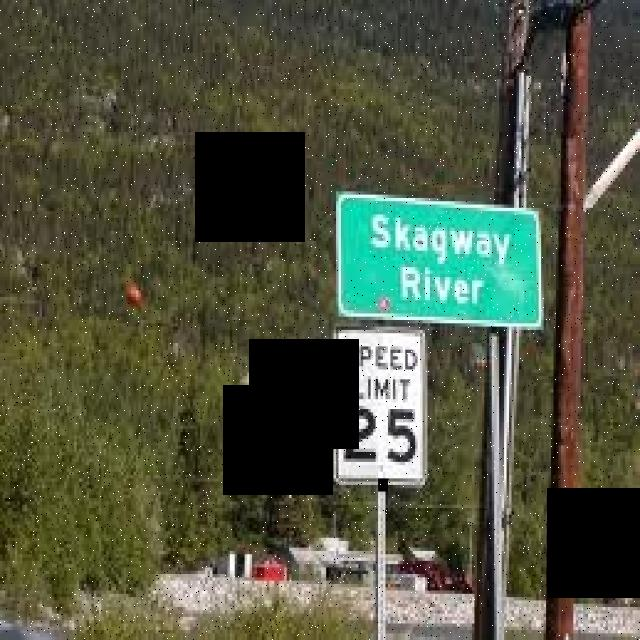regulatory: (328, 325, 433, 492)
